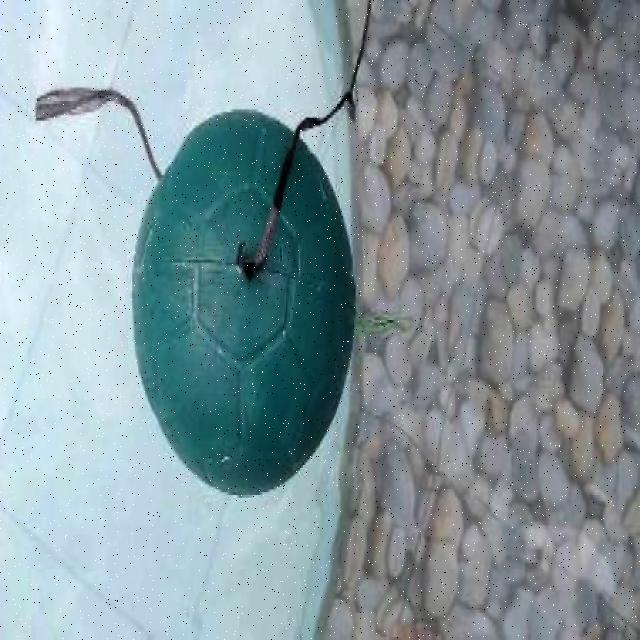buoy: (131, 107, 355, 495)
